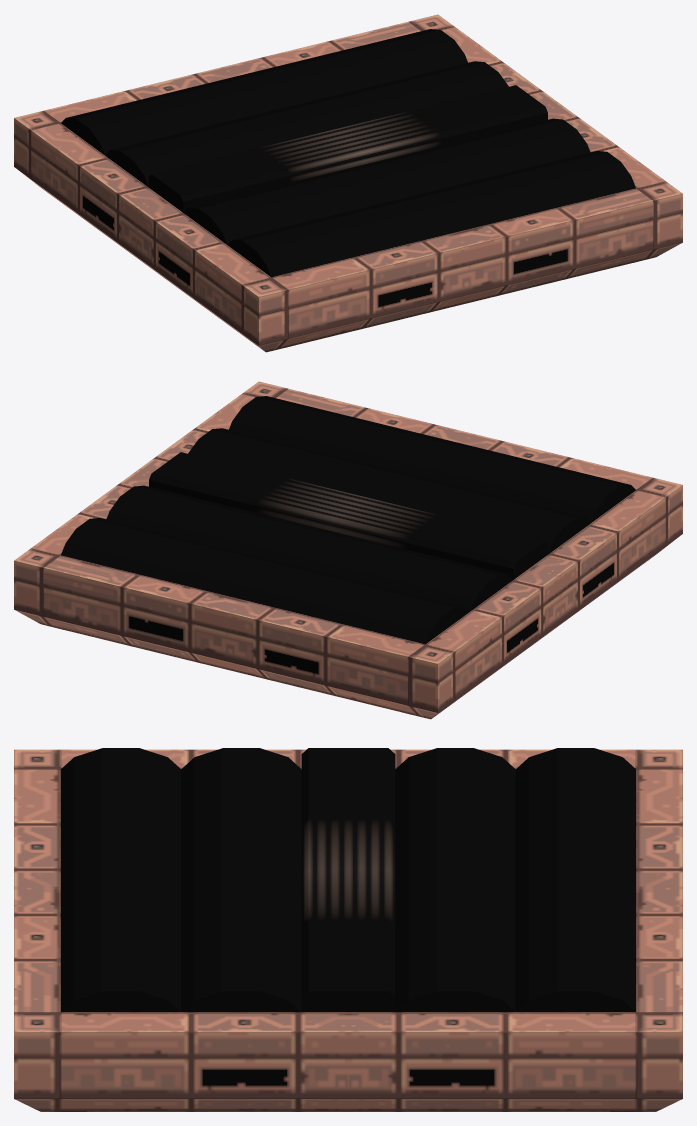
Rendered from BouncyPlatform_2x2_Stone.fbx.
3 views of the same model, one above another, from view 1: azimuth 30°, elevation 25°; view 2: azimuth 150°, elevation 25°; view 3: azimuth 270°, elevation 25° (orthographic). The views are drawn at different scales.
Visible parts, largest first — view 1: BouncyPlatform_2x2_Stone; view 2: BouncyPlatform_2x2_Stone; view 3: BouncyPlatform_2x2_Stone.
Part boxes in pixels (x1,y1,x2,y2): BouncyPlatform_2x2_Stone: [14, 14, 682, 352]; BouncyPlatform_2x2_Stone: [14, 381, 682, 719]; BouncyPlatform_2x2_Stone: [14, 748, 682, 1111].
Size of the model in its own units: 50 by 9.25 by 50.
